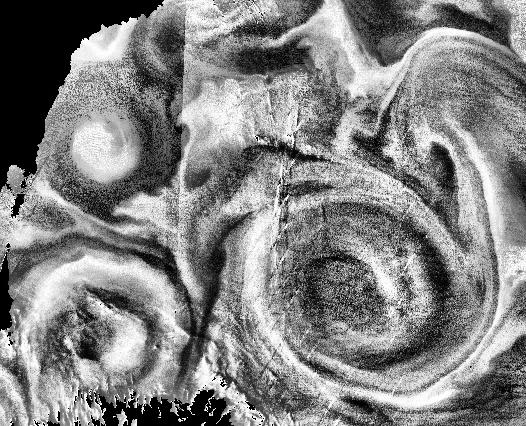AE: (241, 171, 504, 410), (19, 256, 180, 403), (56, 88, 161, 195)
